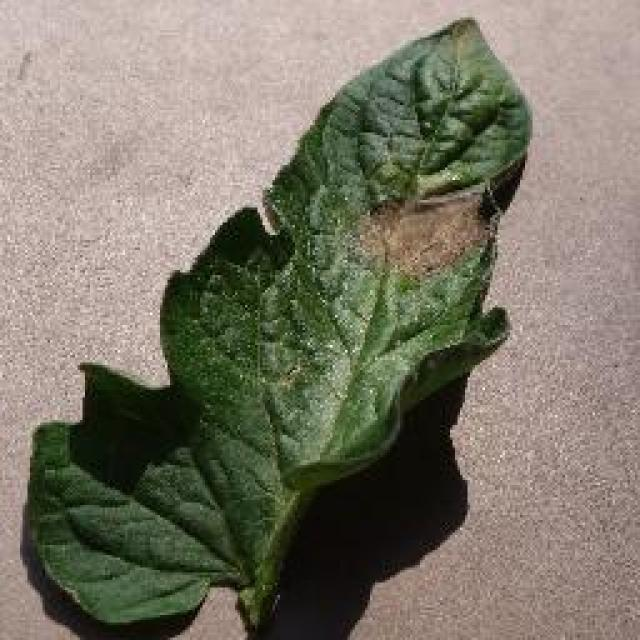Tomato Late Blight: (220, 110, 537, 373)
